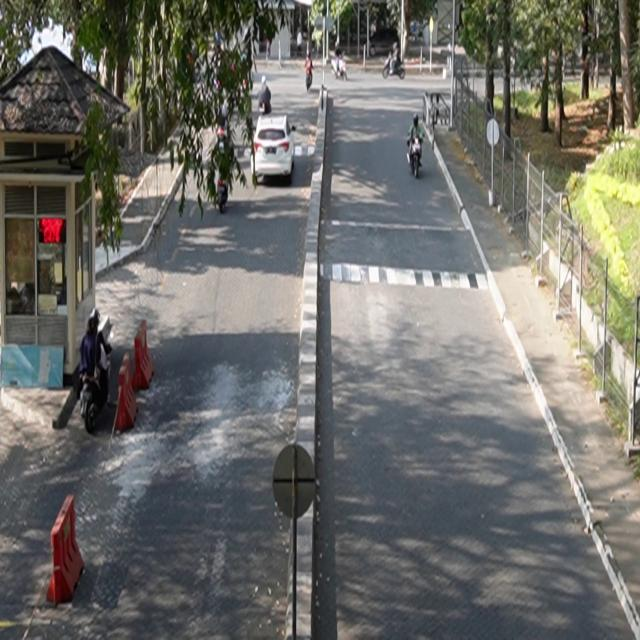car: (251, 115, 297, 185)
